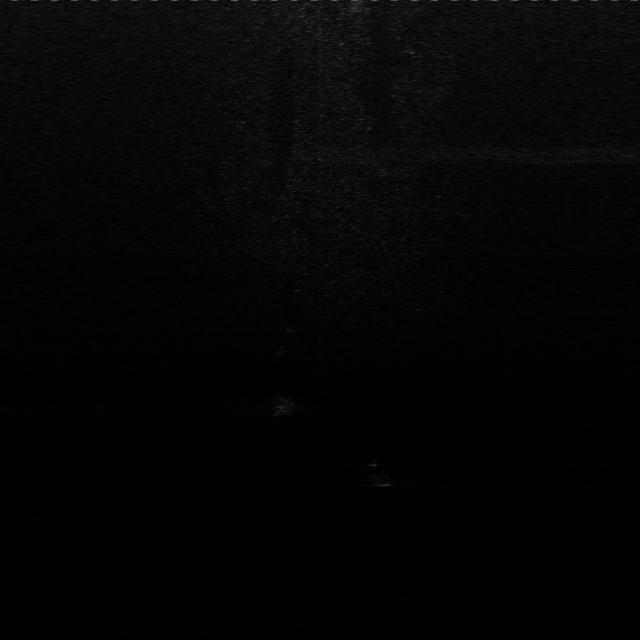circle cage: (270, 388, 306, 421)
tyre: (356, 448, 402, 493)
